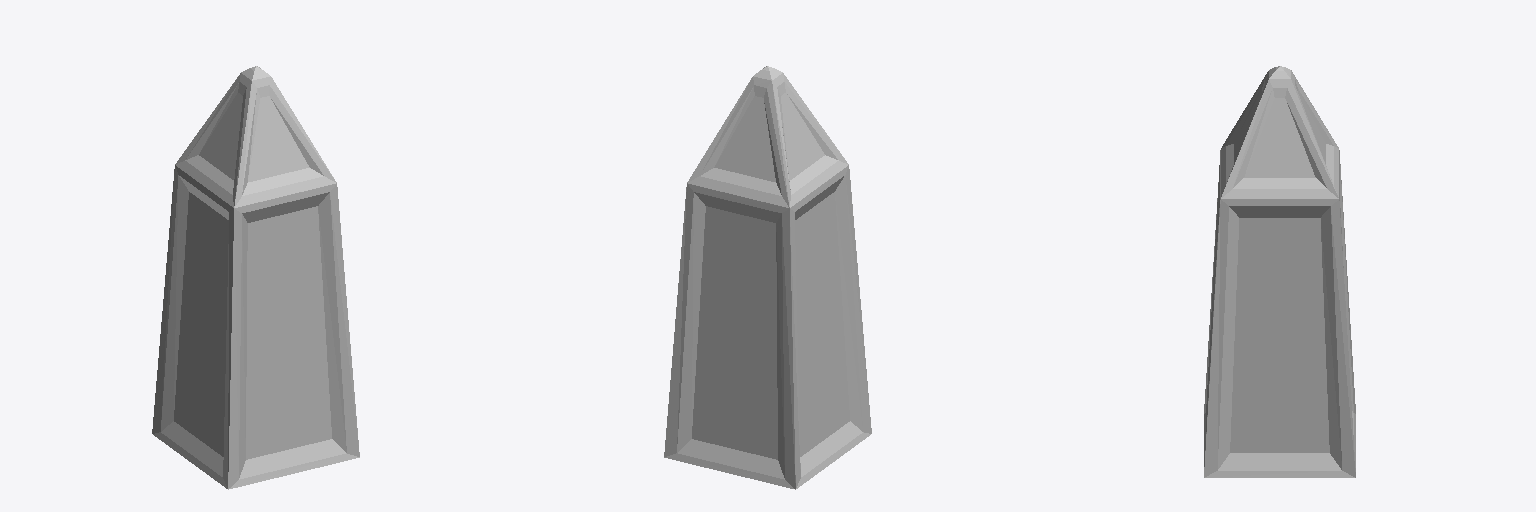
The model's file is ruinPillar_01.obj.
The picture shows the model from 3 angles: view 1: azimuth 30°, elevation 25°; view 2: azimuth 150°, elevation 25°; view 3: azimuth 270°, elevation 25°; orthographic projection.
Visible parts, largest first — view 1: ruinPillar_02:pCube2; view 2: ruinPillar_02:pCube2; view 3: ruinPillar_02:pCube2.
Part boxes in pixels (left/top/right/bottom): ruinPillar_02:pCube2: left=152, top=66, right=359, bottom=489; ruinPillar_02:pCube2: left=664, top=66, right=871, bottom=489; ruinPillar_02:pCube2: left=1204, top=66, right=1355, bottom=477.
Size of the model in its own units: 1.26 by 3.48 by 1.26.